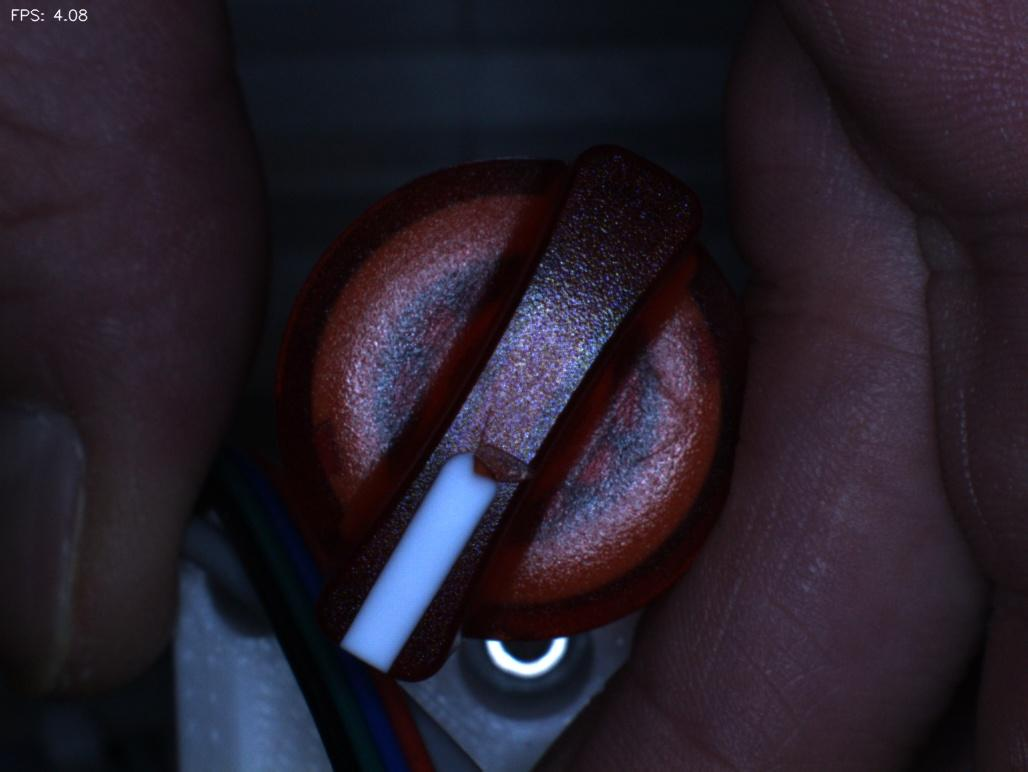Choc: (454, 424, 568, 513)
